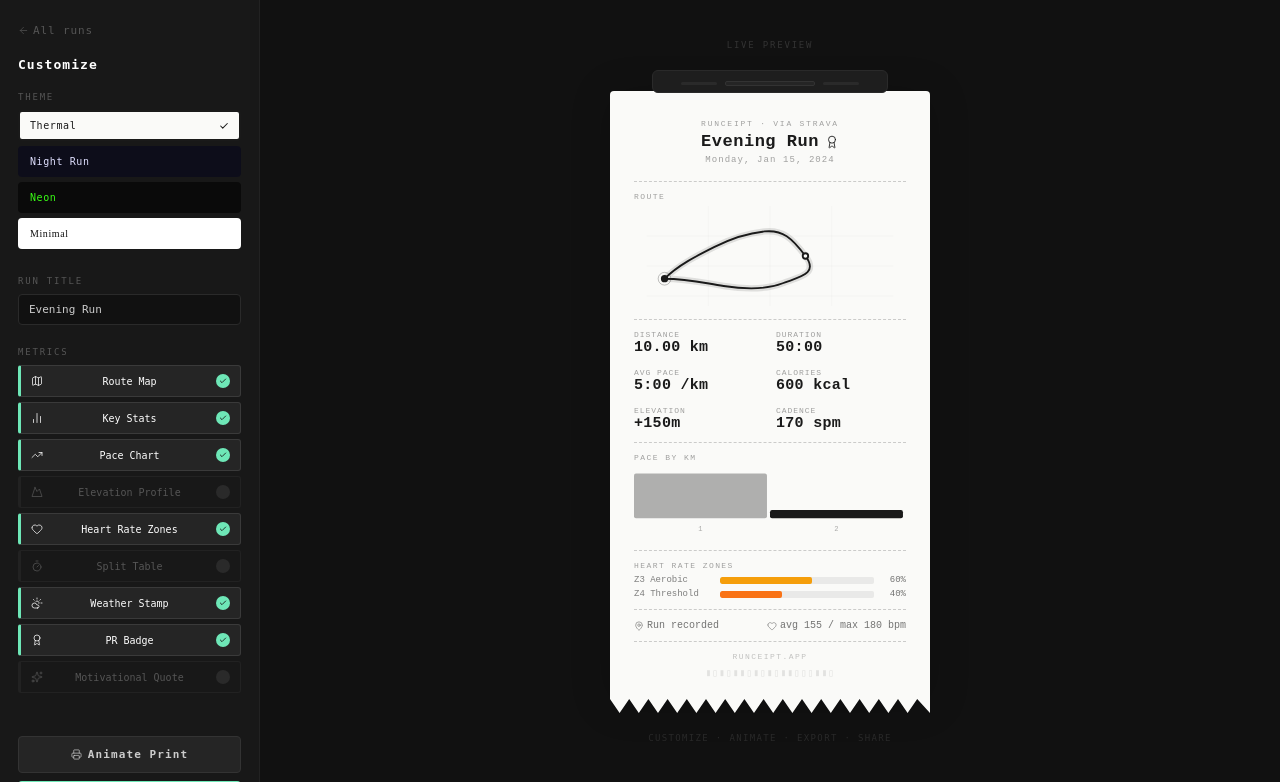
it: Receipt page › toggles a module off and on
Expected: the text "Key Stats" is shown, [102, 412, 157, 424]
Expected: the text "10.00 km" is shown, [634, 339, 708, 356]
Click to toggle off
Click the button "Key Stats".
click(130, 418)  # box [18, 402, 241, 434]
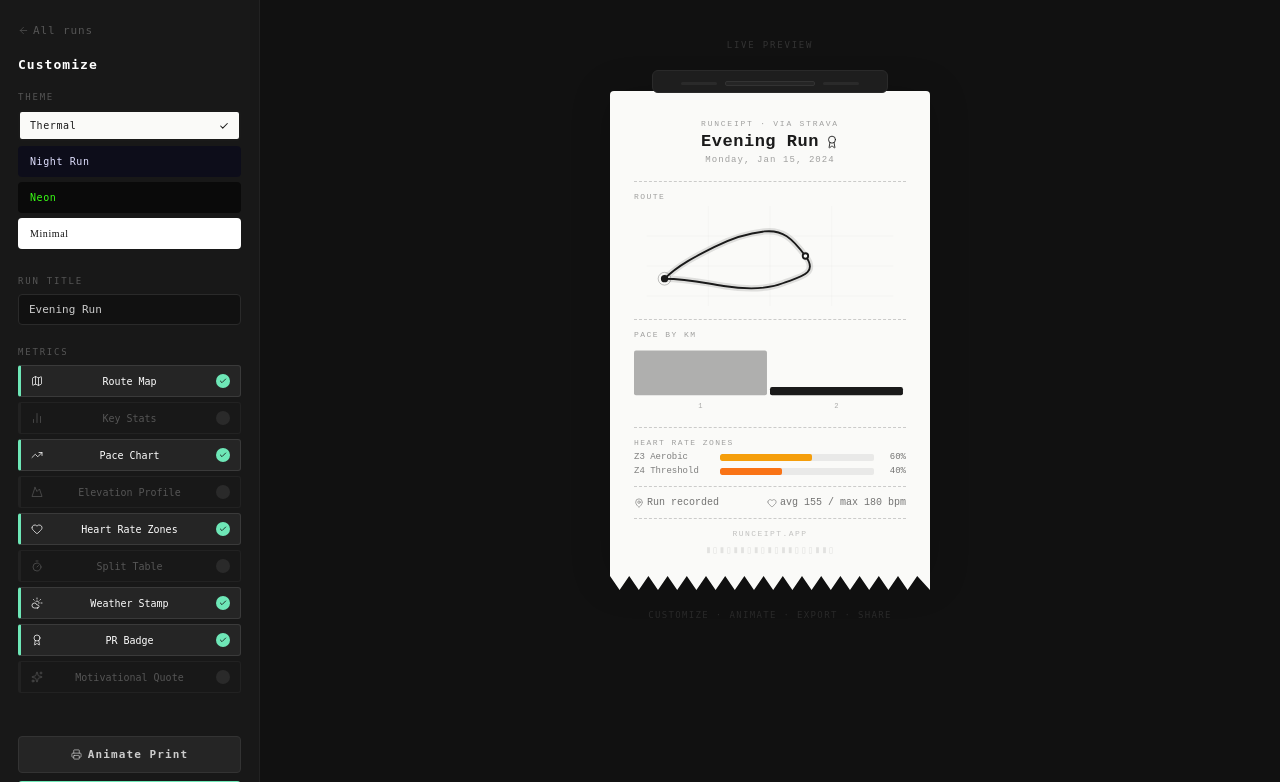
Now the text "10.00 km" is gone
Click to toggle back on
Click the button "Key Stats".
click(130, 418)  # box [18, 402, 241, 434]
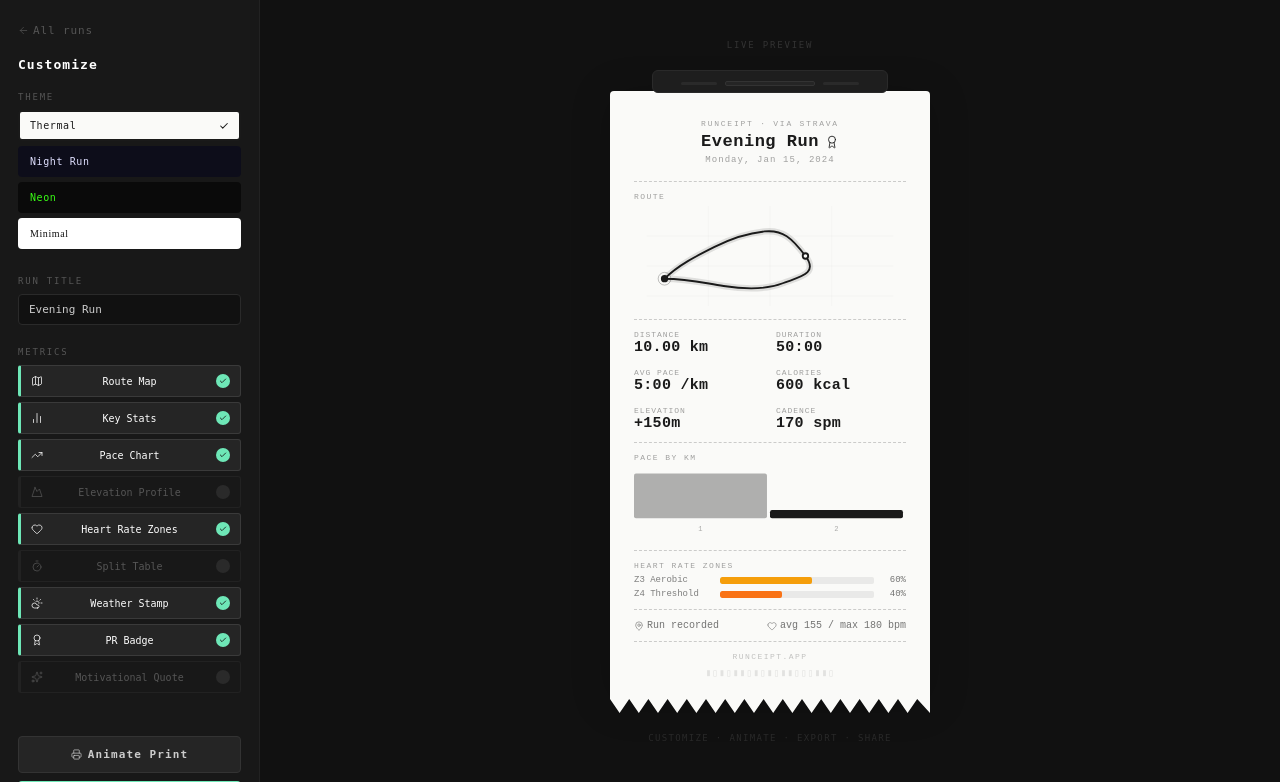
Now the text "10.00 km" is shown, box [634, 339, 708, 356]
